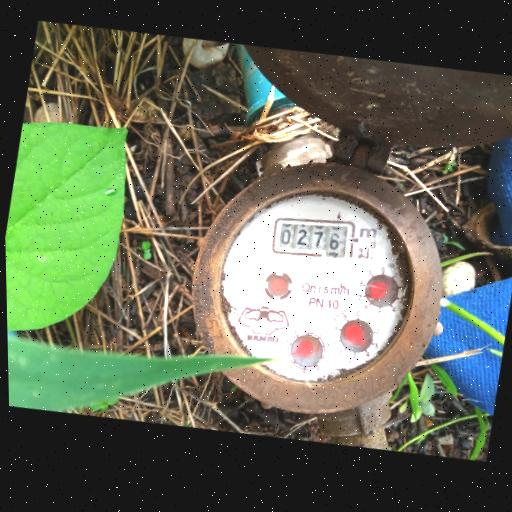0: (275, 221, 296, 250)
2: (289, 221, 312, 251)
6: (321, 223, 350, 260)
7: (305, 222, 328, 252)
border_water_meter_number: (267, 207, 358, 268)
